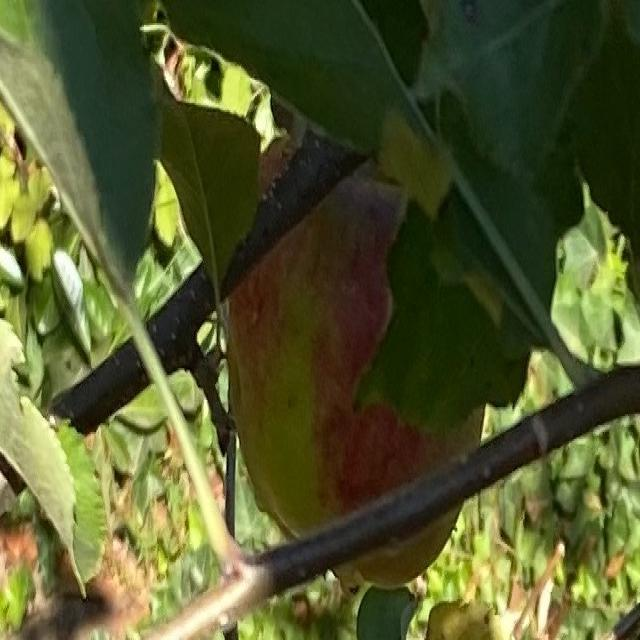100-_ripeness: (224, 135, 487, 580)
